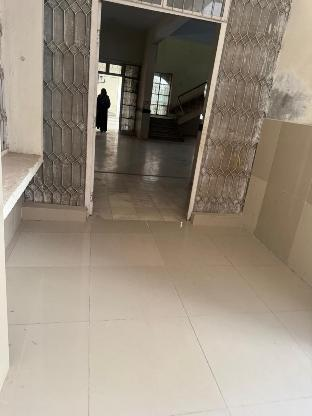door: (81, 0, 230, 229)
